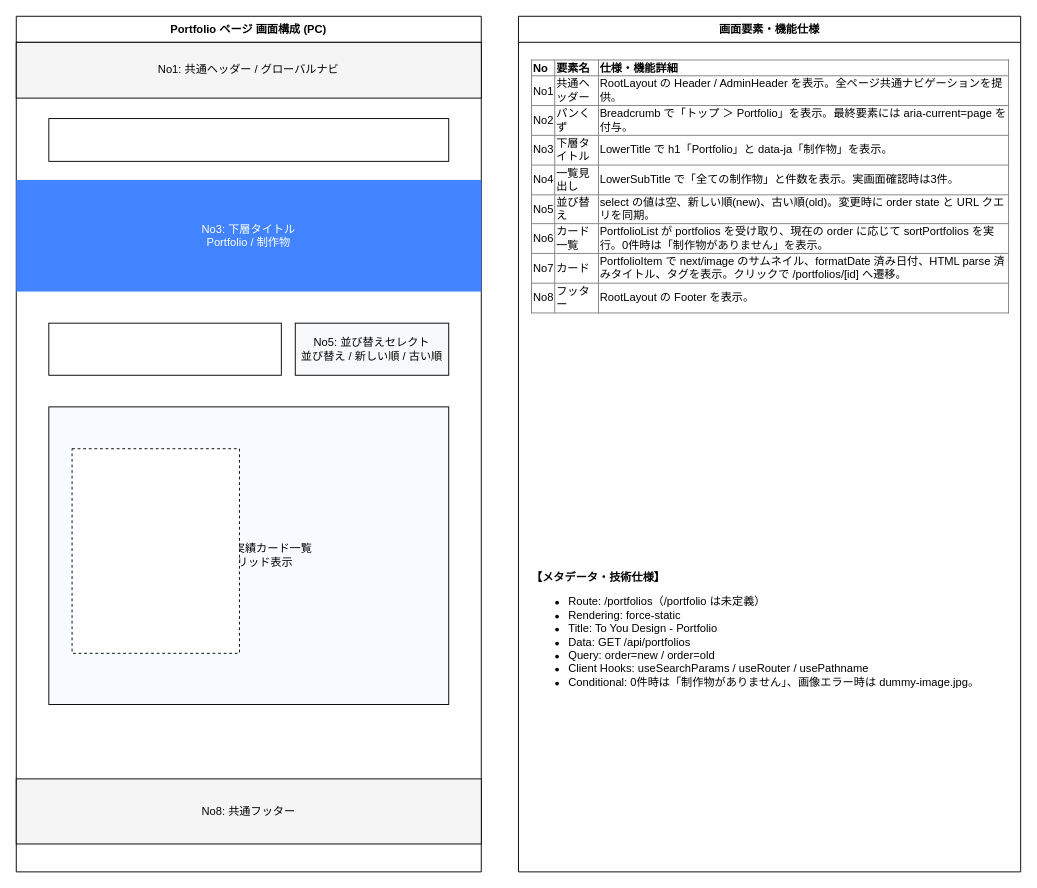
Image size: 1037x888. Some labels were removed from this diagram. The shapes that lost their labels are listed below. From the top down, each one's box as (x1, y1, x2, y2) in pixels, then its label:
(48, 118, 449, 161): No2: パンくず トップ ＞ Portfolio
(48, 322, 281, 375): No4: セクション見出し 全ての制作物 + 件数
(71, 448, 239, 653): No7: カード要素 画像 / 日付 / タイトル / タグ / 詳細リンク
